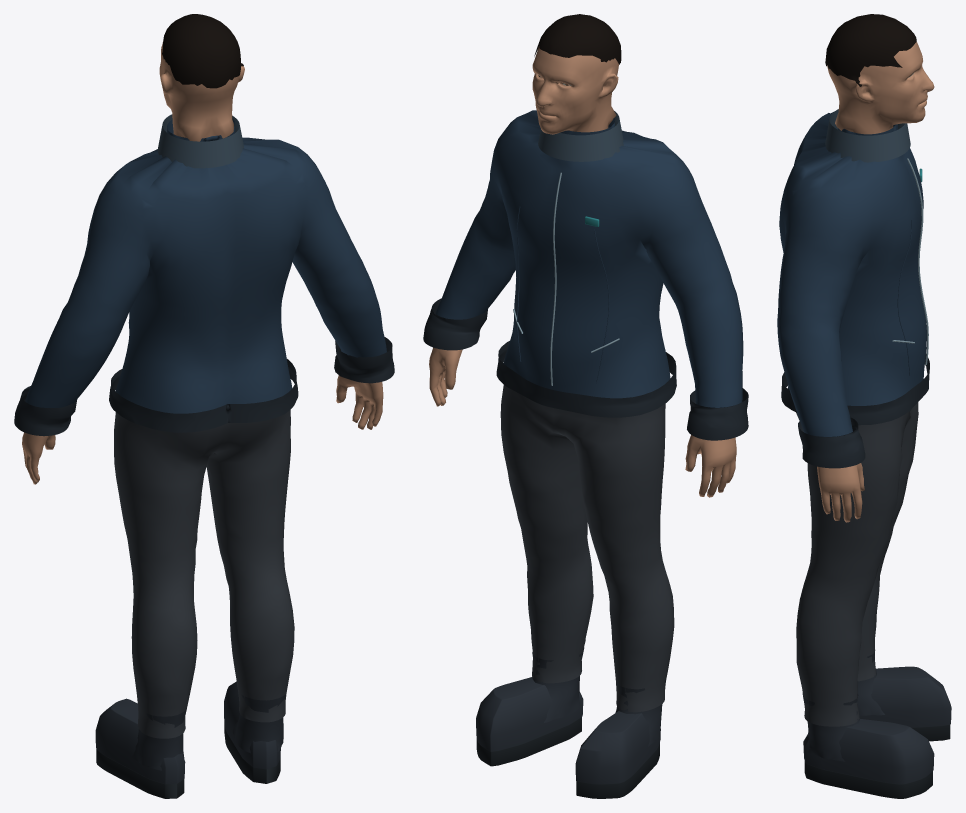
The model's file is civilian.glb.
3 renders of one model, left to right at view 1: azimuth 30°, elevation 25°; view 2: azimuth 150°, elevation 25°; view 3: azimuth 270°, elevation 25°, orthographic.
Visible parts, largest first — view 1: Technical_Jacket, Tailored_Trousers, Civilian_Skin, Cropped_Hair, Jacket_Hem, Shoe_Upper_-1, Technical_Shoes, Soft_Stand_Collar, Sleeve_Cuff_-1, Sleeve_Cuff_1, Shoe_Upper_1, Rubber_Sole_-1 (+1 smaller); view 2: Technical_Jacket, Tailored_Trousers, Civilian_Skin, Shoe_Upper_1, Shoe_Upper_-1, Jacket_Hem, Cropped_Hair, Soft_Stand_Collar, Sleeve_Cuff_-1, Technical_Shoes, Sleeve_Cuff_1, Rubber_Sole_1 (+1 smaller); view 3: Technical_Jacket, Tailored_Trousers, Civilian_Skin, Shoe_Upper_1, Cropped_Hair, Shoe_Upper_-1, Soft_Stand_Collar, Sleeve_Cuff_1, Technical_Shoes, Rubber_Sole_1, Jacket_Hem, Front_Zipper (+1 smaller).
Part boxes in pixels (box(x1,y1,x2,y2)): Technical_Jacket: box(25, 118, 386, 413); Tailored_Trousers: box(114, 410, 294, 738); Civilian_Skin: box(22, 41, 383, 484); Cropped_Hair: box(162, 14, 243, 88); Jacket_Hem: box(109, 359, 298, 432); Shoe_Upper_-1: box(95, 698, 185, 783); Technical_Shoes: box(131, 693, 286, 770); Soft_Stand_Collar: box(157, 114, 243, 168); Sleeve_Cuff_-1: box(14, 386, 77, 436); Sleeve_Cuff_1: box(334, 337, 394, 383); Shoe_Upper_1: box(224, 681, 280, 769); Rubber_Sole_-1: box(96, 749, 184, 798); Technical_Jacket: box(435, 110, 743, 407); Tailored_Trousers: box(500, 359, 674, 712); Civilian_Skin: box(429, 46, 736, 497); Shoe_Upper_1: box(476, 677, 583, 751); Shoe_Upper_-1: box(575, 711, 660, 784); Jacket_Hem: box(496, 341, 676, 417); Cropped_Hair: box(534, 14, 621, 64); Soft_Stand_Collar: box(538, 111, 623, 161); Sleeve_Cuff_-1: box(687, 388, 748, 440); Technical_Shoes: box(532, 647, 666, 746); Sleeve_Cuff_1: box(423, 298, 487, 350); Rubber_Sole_1: box(476, 717, 581, 766); Technical_Jacket: box(777, 112, 926, 436); Tailored_Trousers: box(796, 402, 918, 726); Civilian_Skin: box(817, 42, 934, 522); Shoe_Upper_1: box(803, 719, 934, 783); Cropped_Hair: box(825, 14, 916, 86); Shoe_Upper_-1: box(859, 666, 951, 727); Soft_Stand_Collar: box(825, 109, 910, 162); Sleeve_Cuff_1: box(798, 417, 865, 468); Technical_Shoes: box(802, 650, 884, 761); Rubber_Sole_1: box(804, 761, 932, 798); Jacket_Hem: box(781, 354, 929, 425); Front_Zipper: box(907, 158, 928, 364).
Bounding box in the file's own units: 0.8674 × 1.8 × 0.383.
